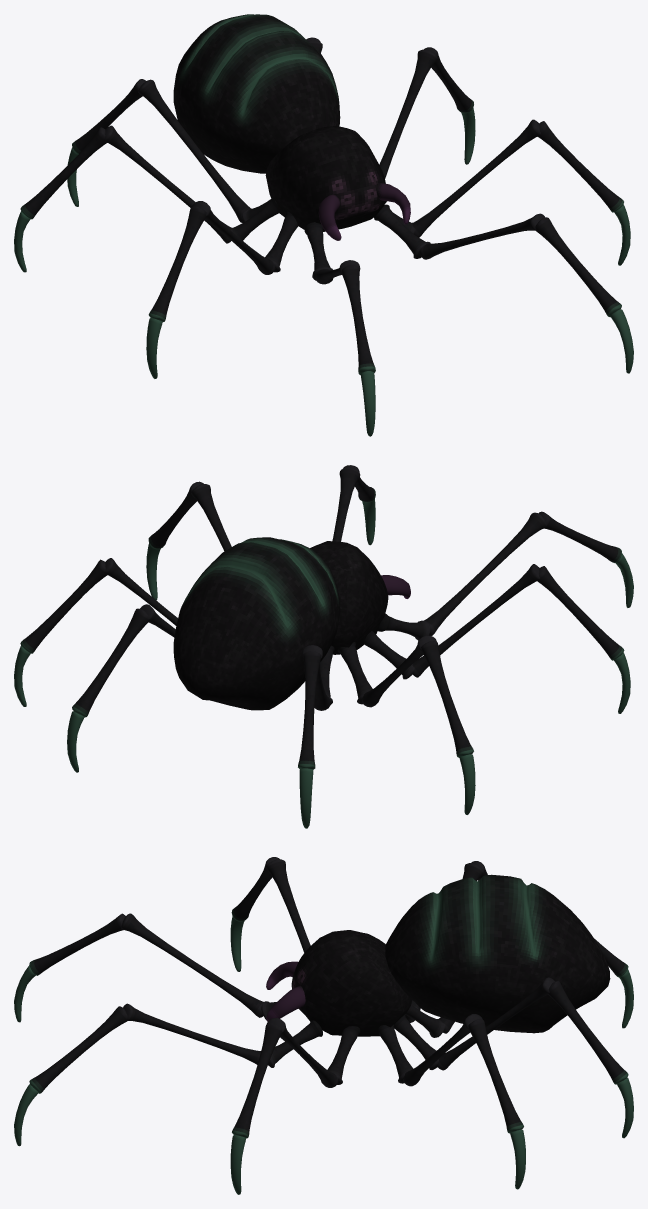
The model's file is pok.fbx.
3 renders of one model, top to bottom at view 1: azimuth 30°, elevation 25°; view 2: azimuth 150°, elevation 25°; view 3: azimuth 270°, elevation 25°, orthographic.
Visible parts, largest first — view 1: pok; view 2: pok; view 3: pok.
Boxes of the visible parts, left/top/right/bottom form: pok: left=14, top=14, right=633, bottom=436; pok: left=14, top=465, right=633, bottom=828; pok: left=14, top=857, right=633, bottom=1194.
Bounding box in the file's own units: 4609 × 1875 × 5218.
